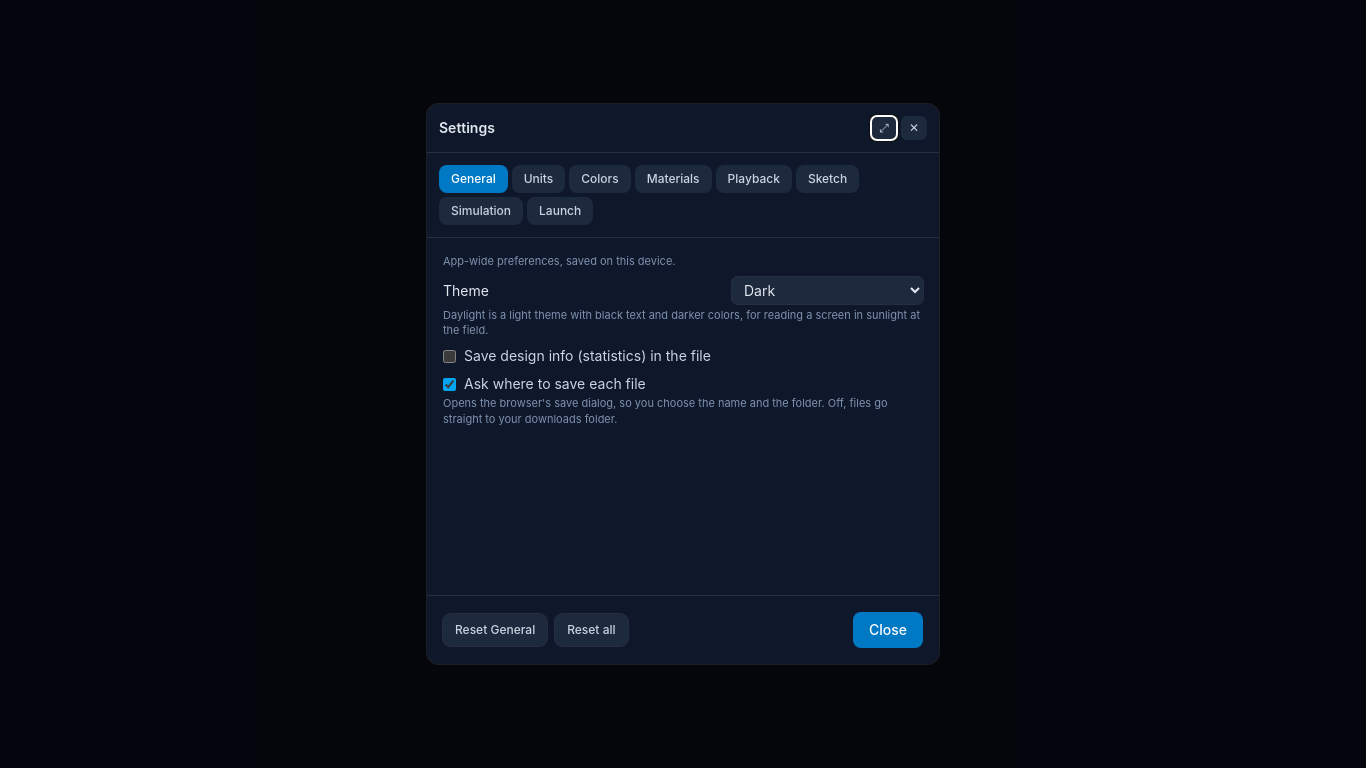
Test case: Settings part color reset › names the part on its reset button
This screenshot has width=1366, height=768.
Click the tab "Colors" at (600, 179), box [569,165,631,193]
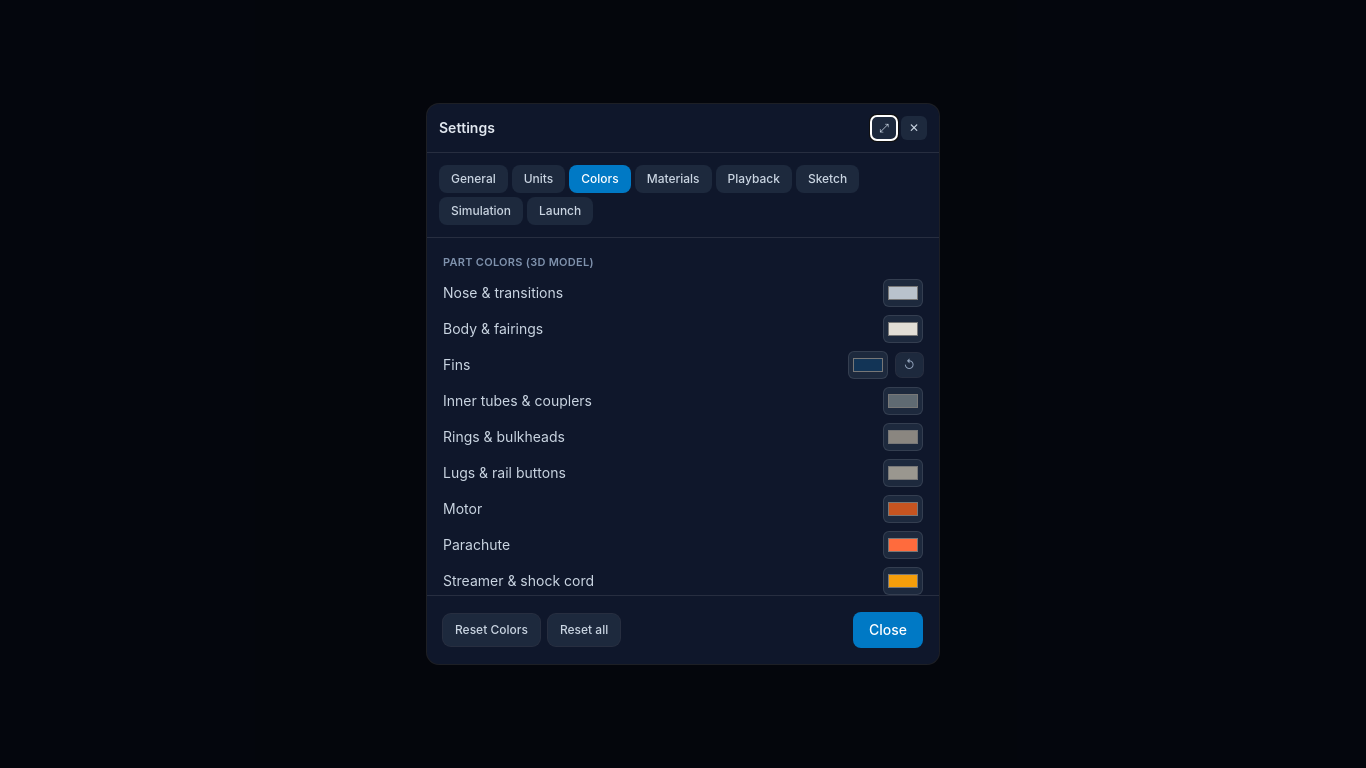
Expected: the button named "Reset Fins to default color" is shown, [896,352,923,376]
